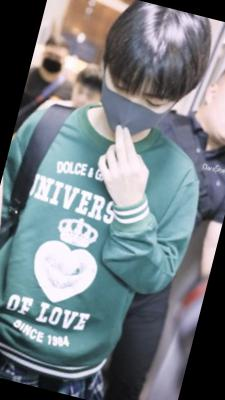with_mask: (90, 70, 177, 148), (40, 50, 67, 76)
without_mask: (205, 83, 225, 147), (69, 82, 104, 116)
